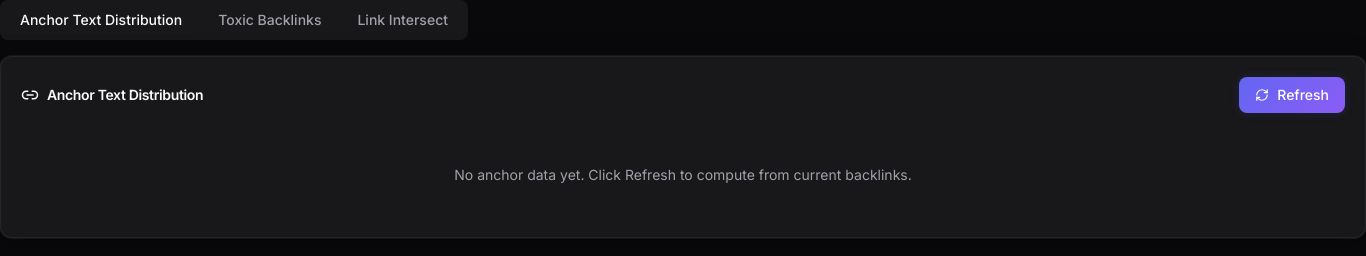
Test case: BacklinkIntelligence › switches to toxic tab and renders rows
Click the tab "Toxic Backlinks" at (270, 20), box [202,4,337,36]
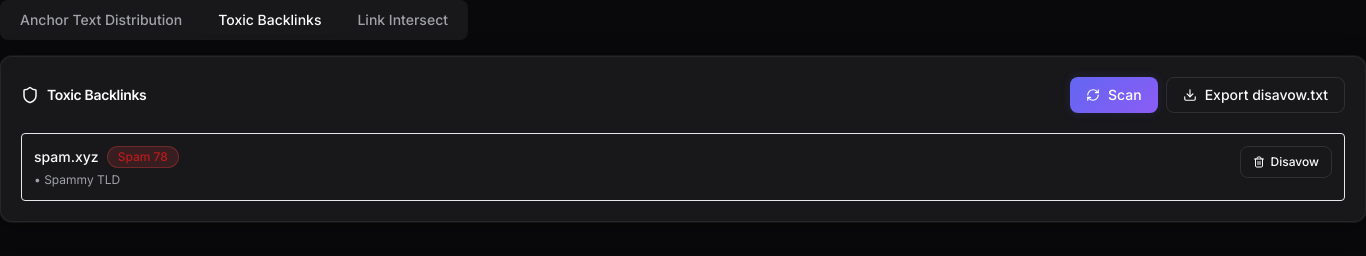
Now the text "spam.xyz" is shown, box [34,147,99,167]
Now the text "Spam 78" is shown, box [107,146,179,168]
Now the list item "• Spammy TLD" is shown, box [34,172,120,187]
